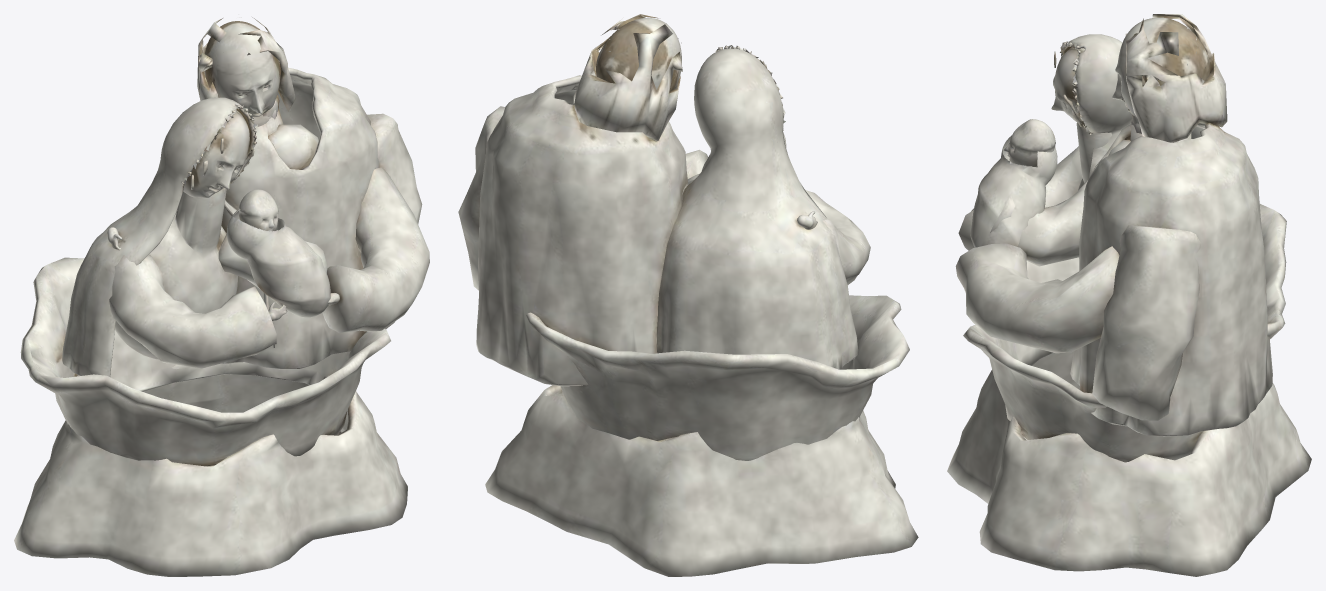
Rendered from sagrada_familia.glb.
3 views of the same model, side by side, from view 1: azimuth 30°, elevation 25°; view 2: azimuth 150°, elevation 25°; view 3: azimuth 270°, elevation 25° (orthographic). The views are drawn at different scales.
Parts seen in each view (by area): view 1: LOW_Sagrada_Familia.001; view 2: LOW_Sagrada_Familia.001; view 3: LOW_Sagrada_Familia.001.
Boxes of the visible parts, x1,y1,x2,y2 form: LOW_Sagrada_Familia.001: (14,14,429,576); LOW_Sagrada_Familia.001: (458,14,918,576); LOW_Sagrada_Familia.001: (947,14,1311,576).
Bounding box in the file's own units: 0.0805 × 0.0857 × 0.0578.
Materials: 1 (1 with a texture image).
